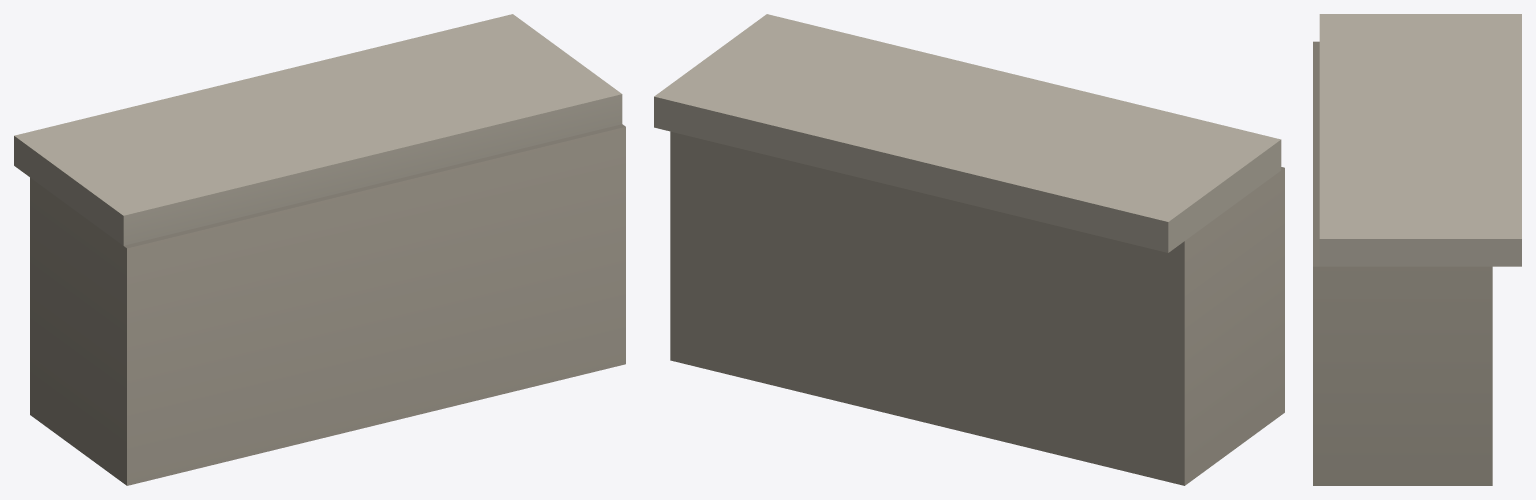
Rendered from seawall.lod2.glb.
3 views of the same model, side by side, from view 1: azimuth 30°, elevation 25°; view 2: azimuth 150°, elevation 25°; view 3: azimuth 270°, elevation 25° (orthographic). The views are drawn at different scales.
Bounding box in the file's own units: 4 × 2.05 × 1.57.
